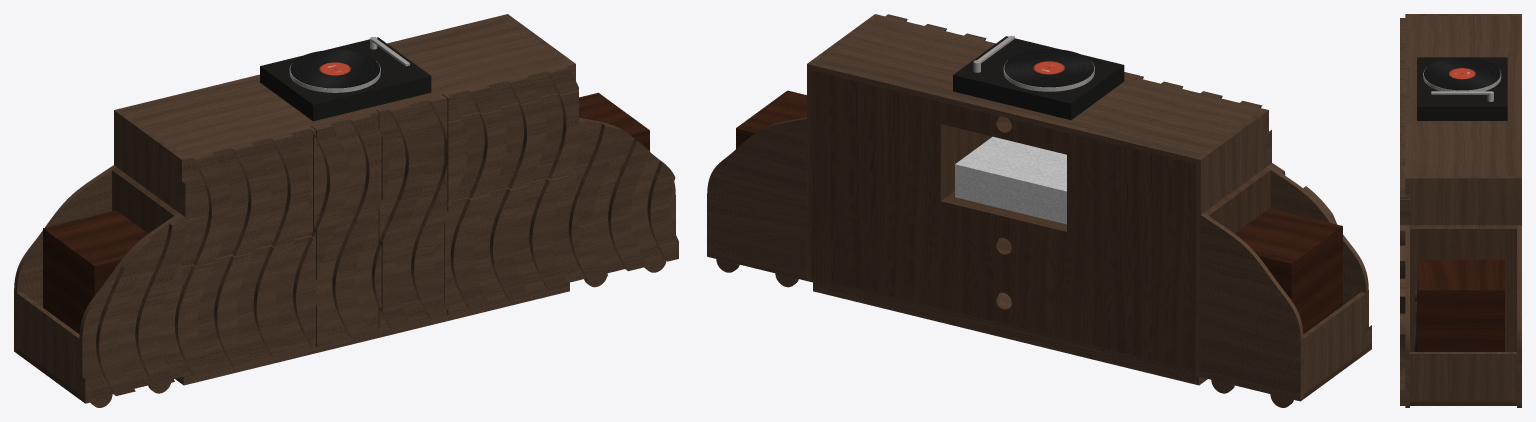
Rendered from onda.glb.
The picture shows the model from 3 angles, left to right: view 1: azimuth 30°, elevation 25°; view 2: azimuth 150°, elevation 25°; view 3: azimuth 270°, elevation 25°; orthographic projection. The views are drawn at different scales.
Visible parts, largest first — view 1: Top,_19_oak, Door_C2_right,_19_oak_+_20_wave_relief, LP_drawer_C3_lower,_19_oak_+_20_wave_relief, Door_C2_left,_19_oak_+_20_wave_relief, Door_C1_upper,_19_oak_+_20_wave_relief, Door_C1_lower,_19_oak_+_20_wave_relief, Wing_L_front_panel,_19_oak_+_20_wave_relief, Wing_R_front_panel,_19_oak_+_20_wave_relief, Drawer_C3_middle,_19_oak_+_20_wave_relief, Speaker_L_cabinet_280_x_440_x_340, Turntable_plinth_450_x_350, Side_panel_L,_19_oak (+7 smaller); view 2: Back_panel,_12_oak_ply, Top,_19_oak, Wing_L_back_panel,_19_oak, Wing_R_back_panel,_19_oak, Speaker_L_cabinet_280_x_440_x_340, Amplifier_envelope_430_x_340_x_120, Turntable_plinth_450_x_350, Side_panel_L,_19_oak, Wing_L_outer_end,_18_oak, Plinth_back,_19_oak, Wing_L_front_panel,_19_oak_+_20_wave_relief, LP_on_platter (+8 smaller); view 3: Top,_19_oak, Speaker_R_cabinet_280_x_440_x_340, Side_panel_R,_19_oak, Wing_R_inner_side,_18_oak_ply, Wing_R_outer_end,_18_oak, Turntable_plinth_450_x_350, LP_on_platter, Wing_R_front_panel,_19_oak_+_20_wave_relief, Wing_R_back_panel,_19_oak, Drawer_C3_top,_19_oak_+_20_wave_relief, Wing_R_bottom,_18_oak_ply, Door_C1_upper,_19_oak_+_20_wave_relief (+6 smaller).
Boxes of the visible parts, x1,y1,x2,y2 form: Top,_19_oak: (119, 15, 567, 156); Door_C2_right,_19_oak_+_20_wave_relief: (376, 94, 447, 328); LP_drawer_C3_lower,_19_oak_+_20_wave_relief: (444, 171, 578, 314); Door_C2_left,_19_oak_+_20_wave_relief: (311, 110, 381, 346); Door_C1_upper,_19_oak_+_20_wave_relief: (179, 126, 315, 266); Door_C1_lower,_19_oak_+_20_wave_relief: (182, 235, 315, 376); Wing_L_front_panel,_19_oak_+_20_wave_relief: (79, 213, 185, 403); Wing_R_front_panel,_19_oak_+_20_wave_relief: (576, 117, 678, 280); Drawer_C3_middle,_19_oak_+_20_wave_relief: (444, 91, 578, 204); Speaker_L_cabinet_280_x_440_x_340: (43, 210, 147, 333); Turntable_plinth_450_x_350: (260, 37, 431, 121); Side_panel_L,_19_oak: (114, 109, 183, 212); Back_panel,_12_oak_ply: (812, 70, 1195, 370); Top,_19_oak: (812, 17, 1260, 163); Wing_L_back_panel,_19_oak: (1200, 213, 1303, 401); Wing_R_back_panel,_19_oak: (707, 117, 806, 280); Speaker_L_cabinet_280_x_440_x_340: (1235, 208, 1342, 333); Amplifier_envelope_430_x_340_x_120: (955, 136, 1066, 224); Turntable_plinth_450_x_350: (953, 36, 1124, 119); Side_panel_L,_19_oak: (1196, 111, 1266, 376); Wing_L_outer_end,_18_oak: (1303, 292, 1365, 394); Plinth_back,_19_oak: (813, 282, 1201, 385); Wing_L_front_panel,_19_oak_+_20_wave_relief: (1266, 163, 1371, 353); LP_on_platter: (1004, 49, 1093, 87); Top,_19_oak: (1410, 16, 1521, 176); Speaker_R_cabinet_280_x_440_x_340: (1417, 259, 1504, 351); Side_panel_R,_19_oak: (1410, 176, 1521, 225); Wing_R_inner_side,_18_oak_ply: (1410, 225, 1516, 351); Wing_R_outer_end,_18_oak: (1410, 352, 1516, 401); Turntable_plinth_450_x_350: (1417, 57, 1507, 120); LP_on_platter: (1424, 57, 1500, 90); Wing_R_front_panel,_19_oak_+_20_wave_relief: (1400, 225, 1409, 405); Wing_R_back_panel,_19_oak: (1517, 225, 1521, 405); Drawer_C3_top,_19_oak_+_20_wave_relief: (1400, 123, 1409, 199); Wing_R_bottom,_18_oak_ply: (1410, 401, 1516, 405); Door_C1_upper,_19_oak_+_20_wave_relief: (1400, 14, 1409, 68).
Bounding box in the file's own units: 2.26 × 0.926 × 0.47.
Materials: 13 (9 with a texture image).
